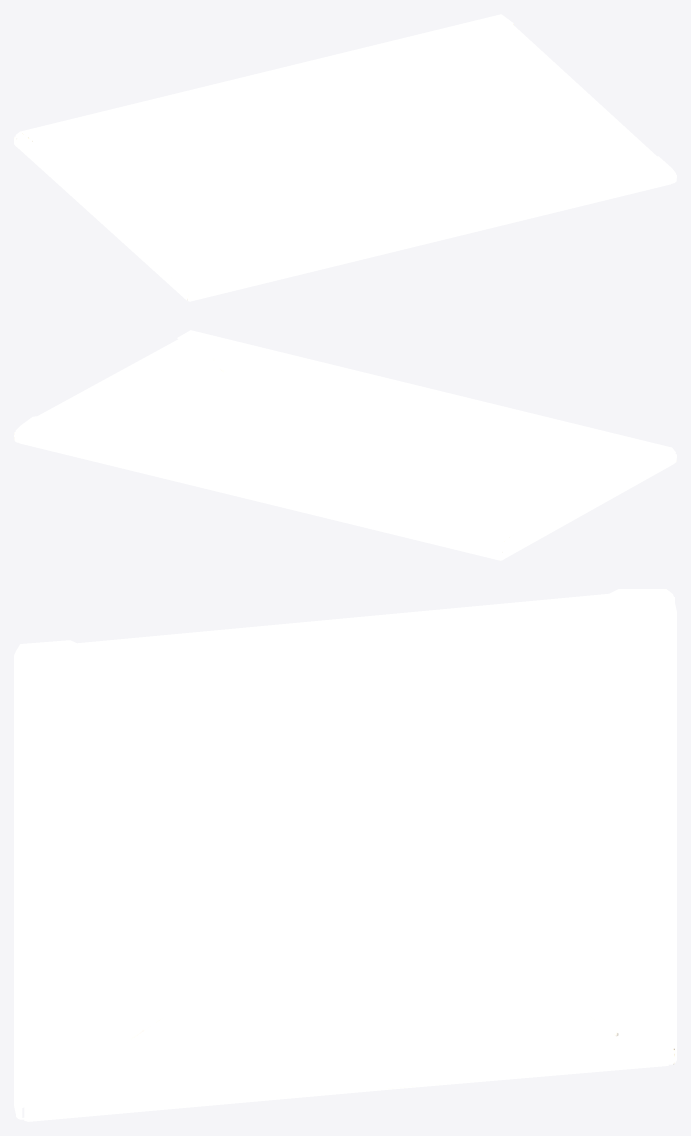
File: E_Letter_LOD0.fbx
The picture shows the model from 3 angles, top to bottom: view 1: azimuth 30°, elevation 25°; view 2: azimuth 150°, elevation 25°; view 3: azimuth 270°, elevation 25°; orthographic projection. The views are drawn at different scales.
Parts seen in each view (by area): view 1: E_Letter_LOD0; view 2: E_Letter_LOD0; view 3: E_Letter_LOD0.
Part boxes in pixels (x1,y1,x2,y2): E_Letter_LOD0: (14,14,676,301); E_Letter_LOD0: (14,330,676,560); E_Letter_LOD0: (14,589,676,1121).
Size of what is drawn, in the model's own units: 26.99 by 3.54 by 16.74.
1 material, 1 textured.
